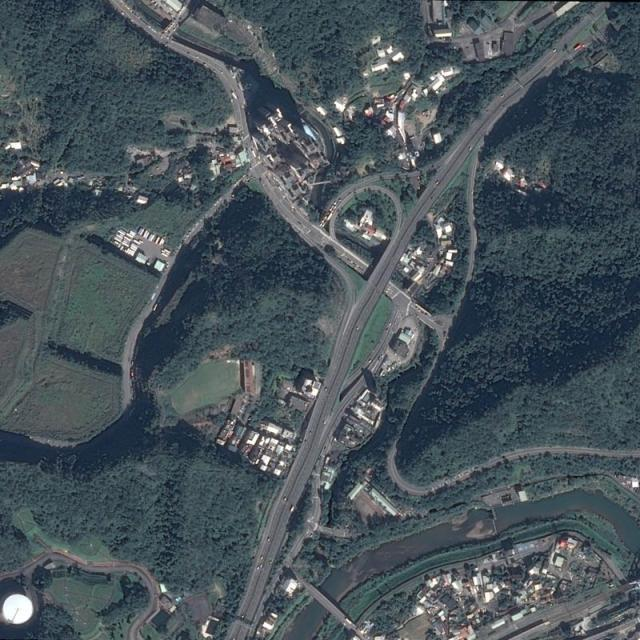vehicle: (574, 44, 582, 50), (231, 92, 237, 99), (154, 304, 158, 310), (151, 294, 155, 300), (291, 506, 295, 511), (130, 372, 134, 377), (328, 214, 331, 220), (435, 181, 439, 185), (469, 147, 472, 151), (322, 224, 325, 227), (554, 50, 556, 53)
